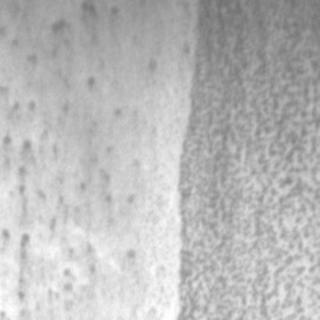pitted_surface: (178, 1, 316, 316), (0, 2, 136, 306)
